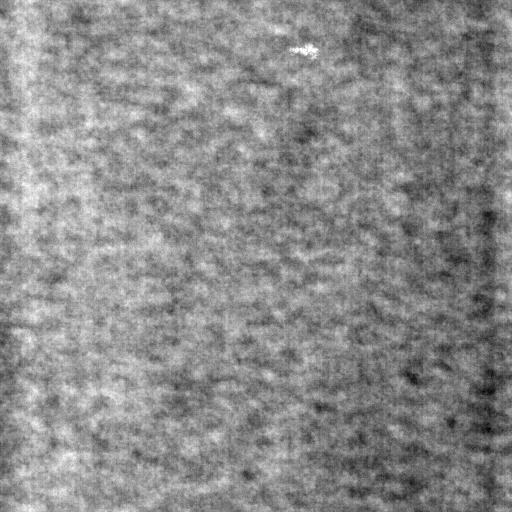DefectTypeA: (289, 42, 318, 59)
